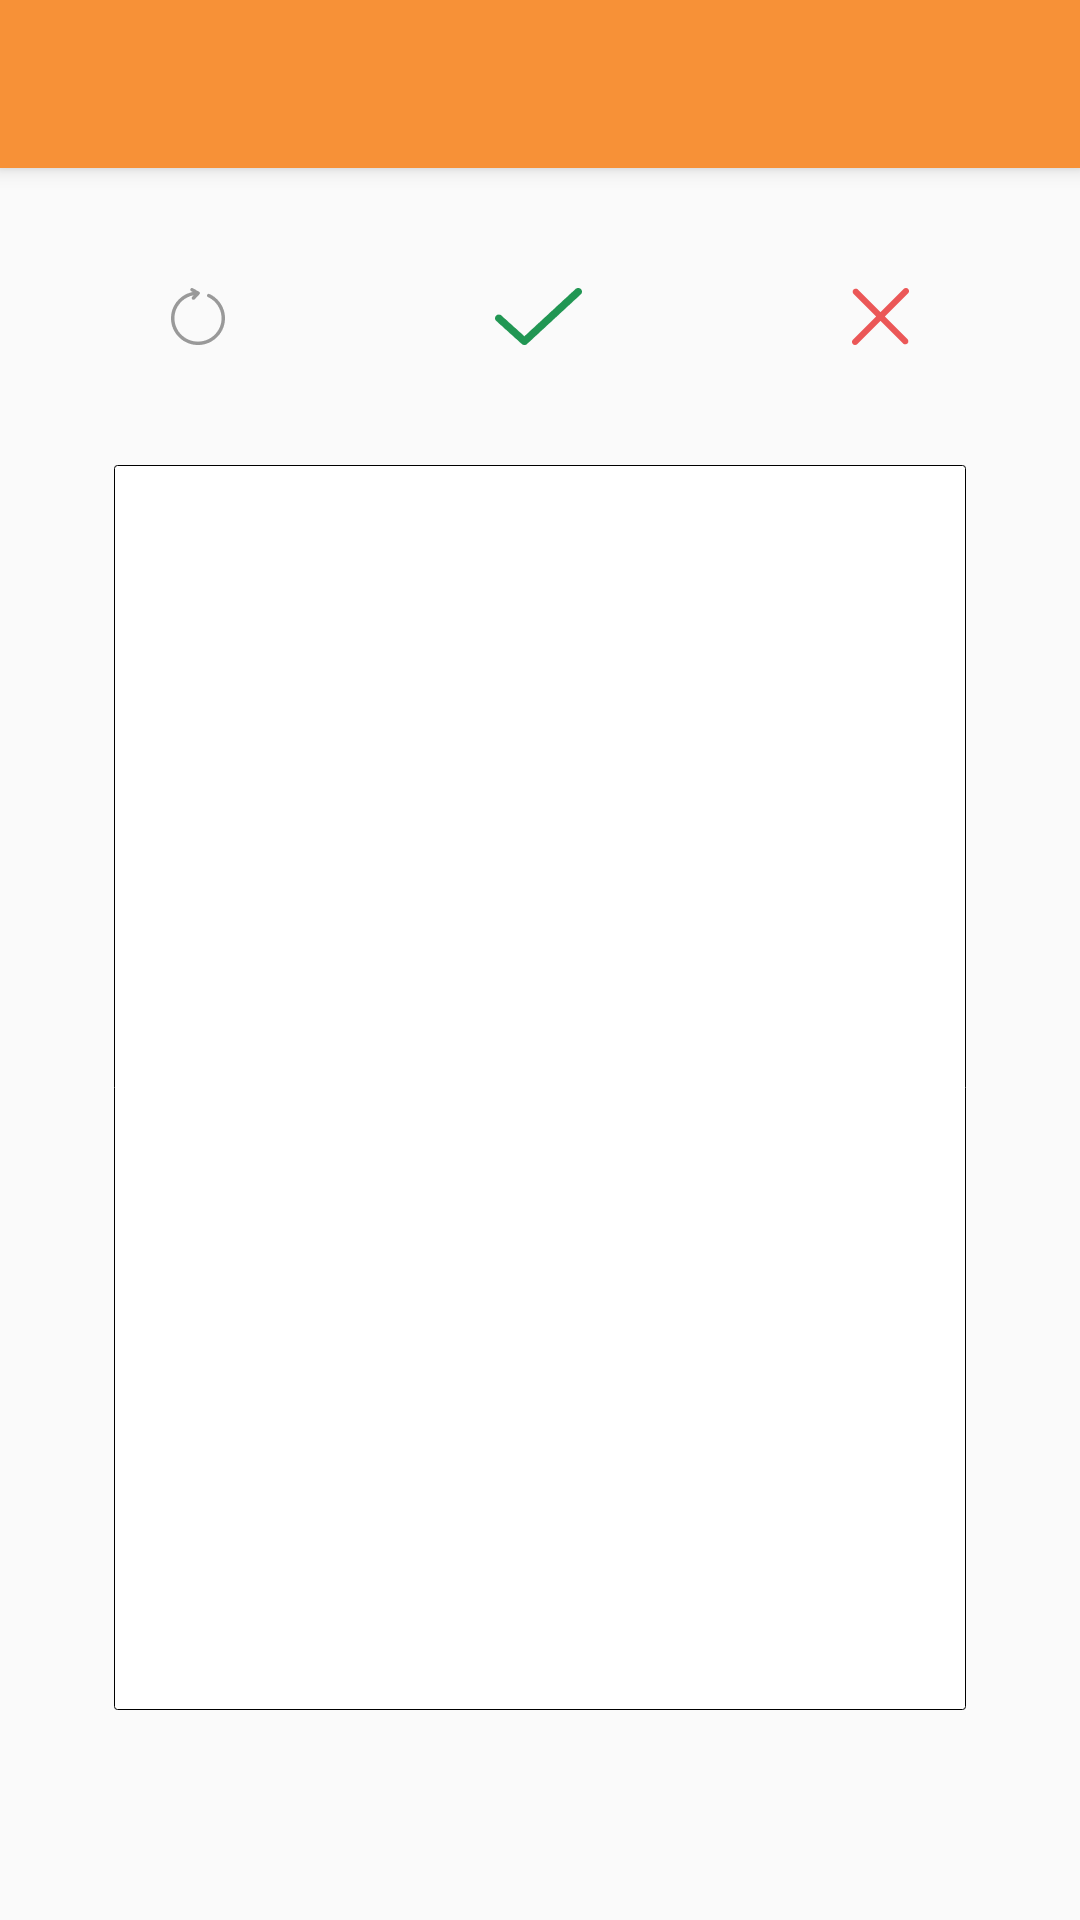

Named icons in this screenshot (1080x1920) and their bounding boxes, [x1, y1, x2, y2]:
cancel: [852, 288, 909, 345]
Save: [495, 288, 582, 345]
